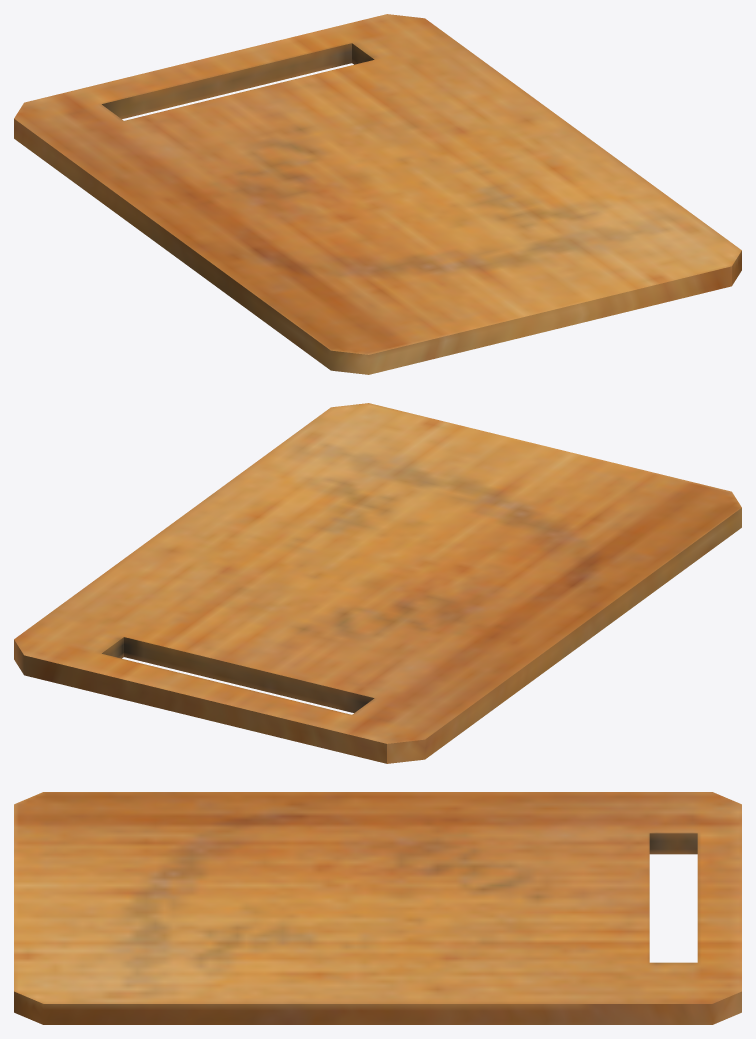
File: ChoppingBoard.FBX
The picture shows the model from 3 angles, top to bottom: view 1: azimuth 30°, elevation 25°; view 2: azimuth 150°, elevation 25°; view 3: azimuth 270°, elevation 25°; orthographic projection. The views are drawn at different scales.
Visible parts, largest first — view 1: ChoppingBoard; view 2: ChoppingBoard; view 3: ChoppingBoard.
Part boxes in pixels (x1,y1,x2,y2): ChoppingBoard: (14, 14, 741, 374); ChoppingBoard: (14, 403, 741, 763); ChoppingBoard: (14, 792, 741, 1024).
Bounding box in the file's own units: 23.8 × 1.11 × 34.57.
